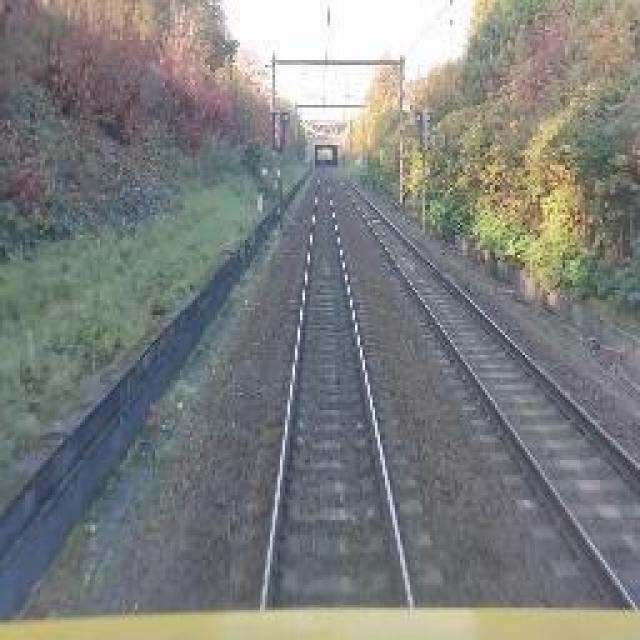rail: (222, 159, 458, 606)
